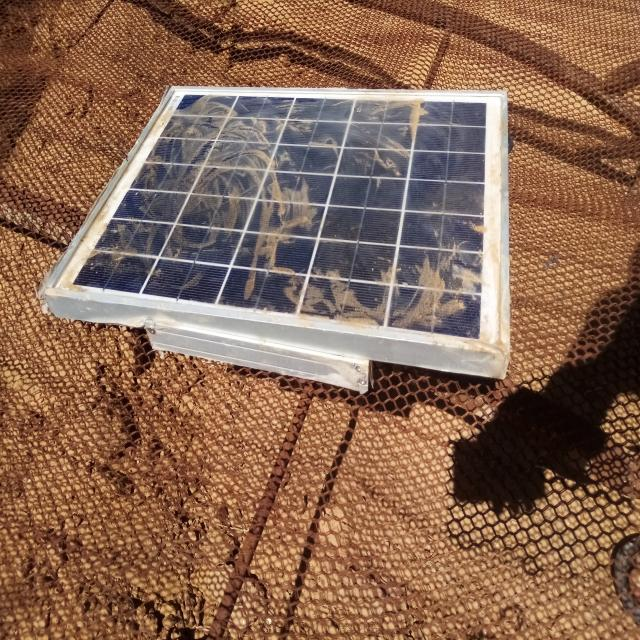faulty: (43, 87, 506, 349)
